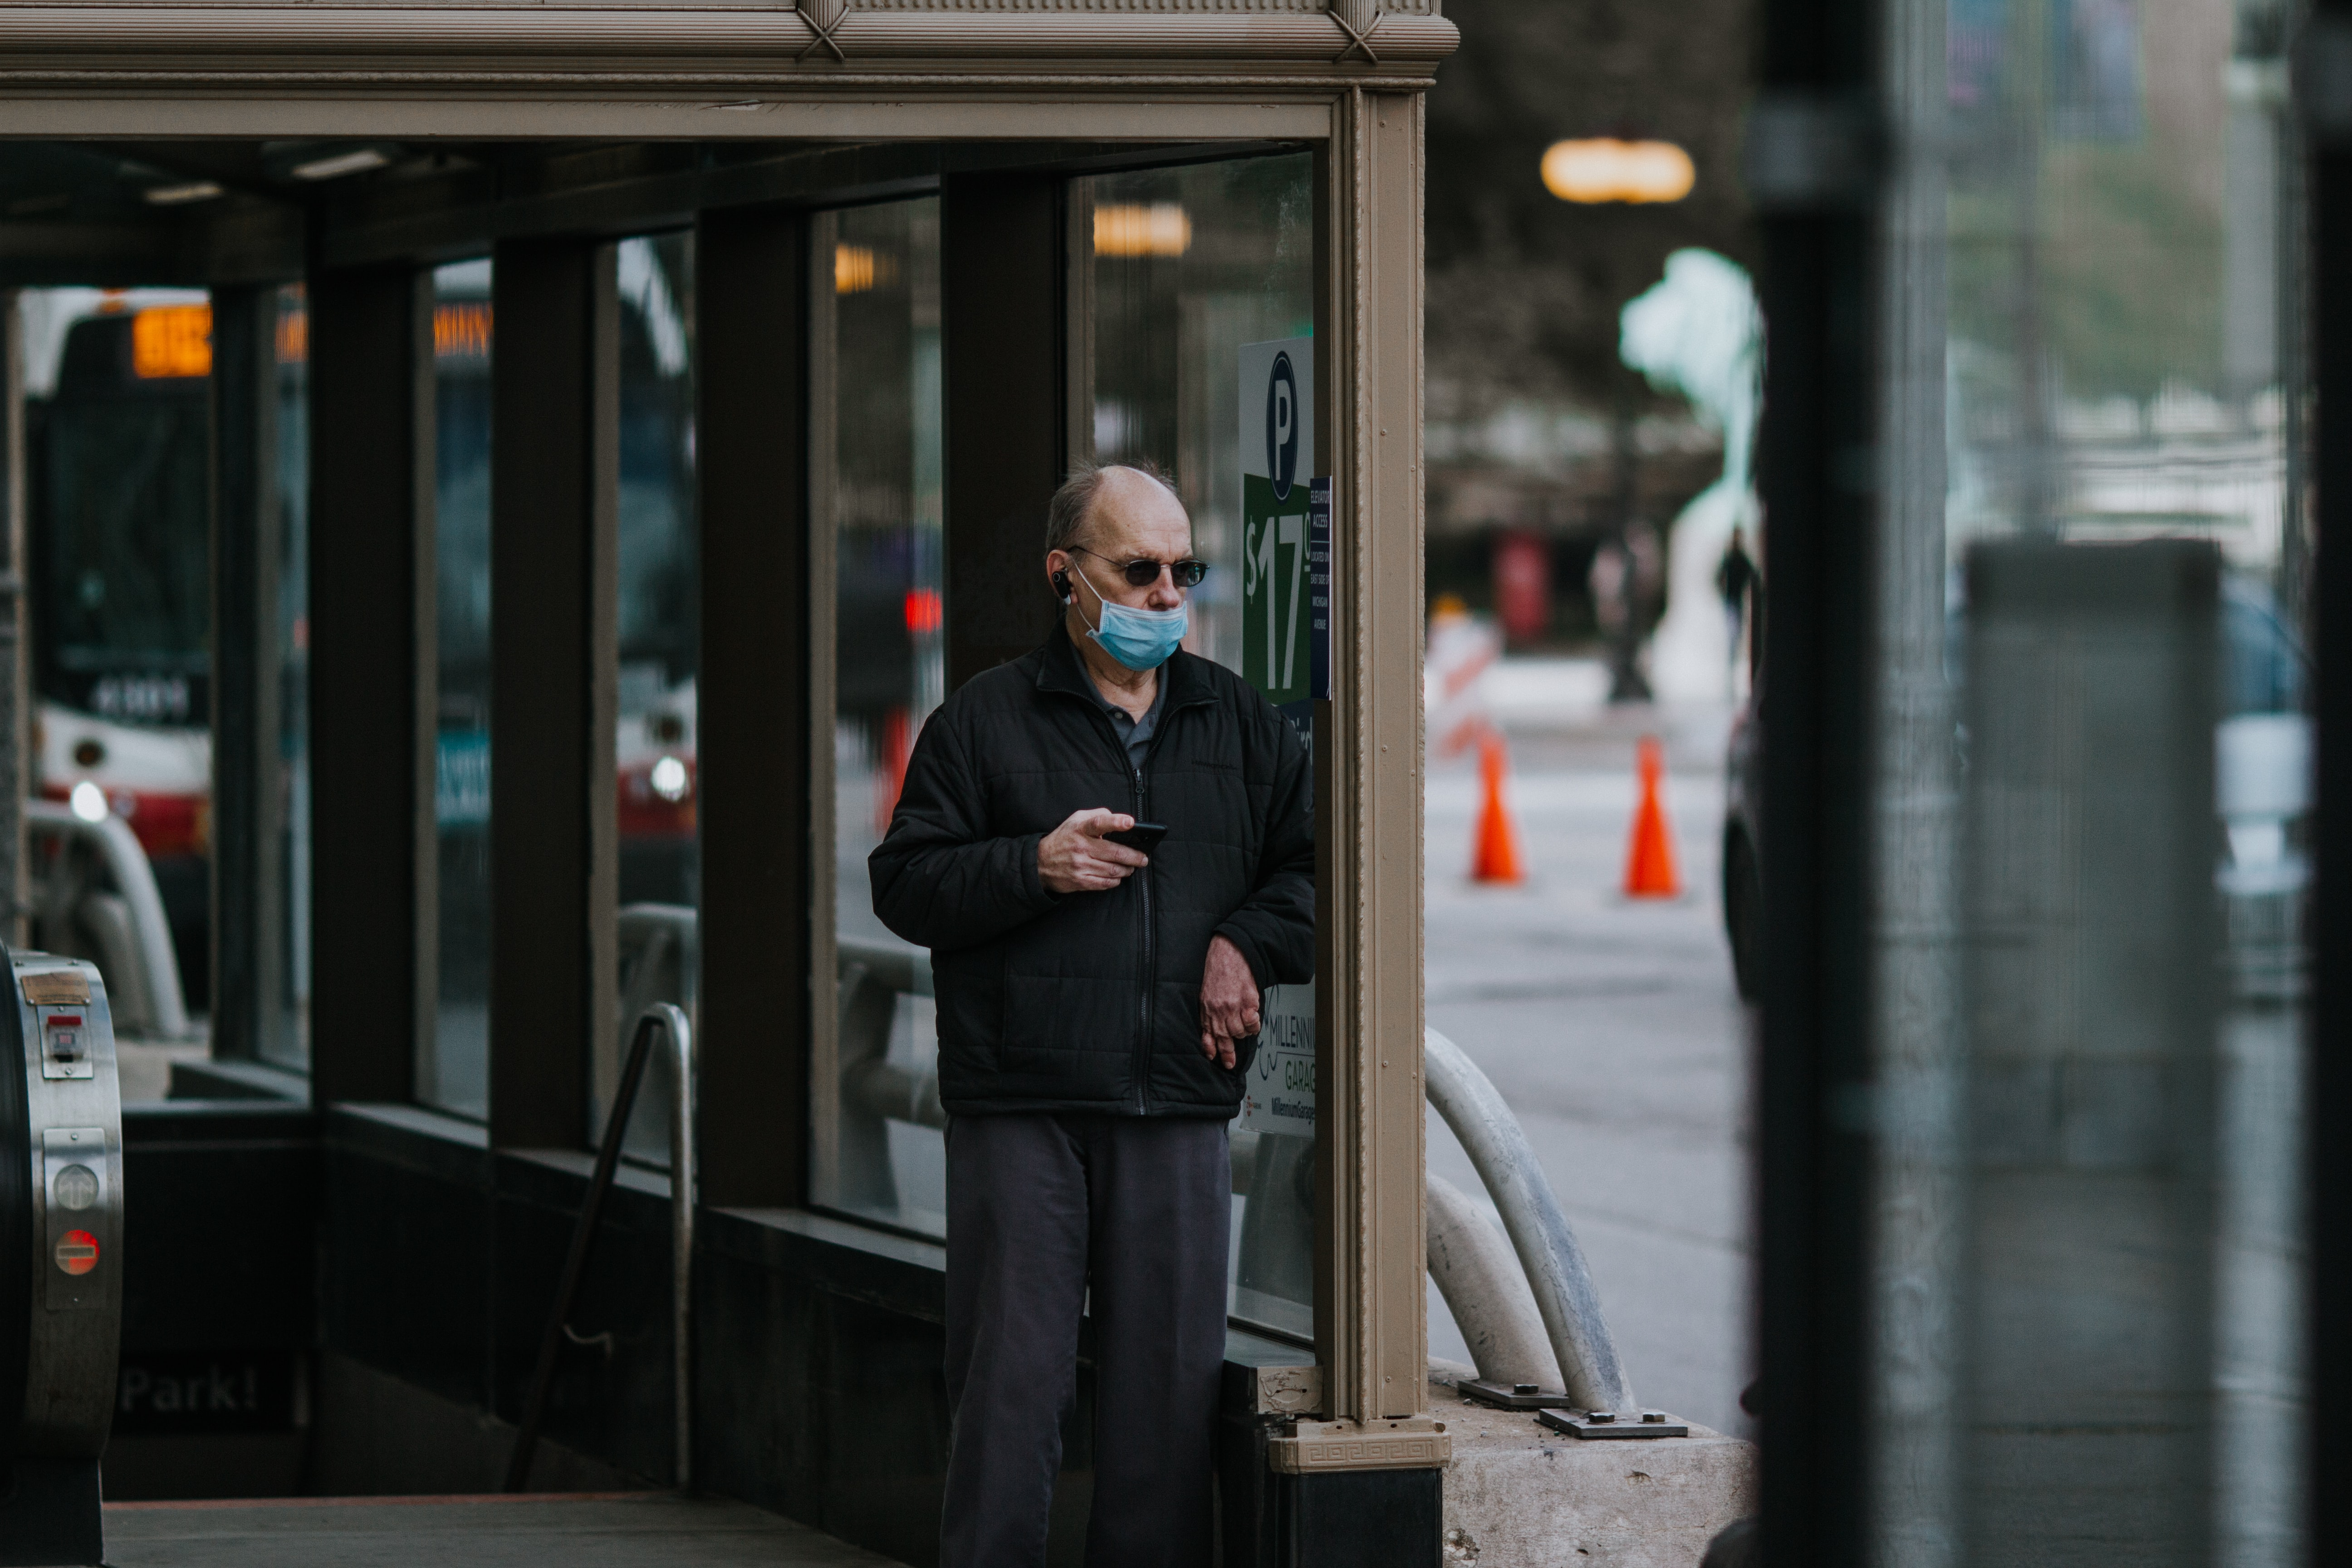with_mask: (1029, 473, 1208, 686)
